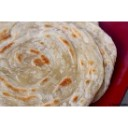parota: (1, 20, 117, 108)
